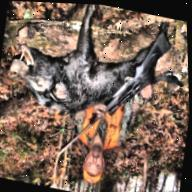boar: (0, 0, 191, 155)
